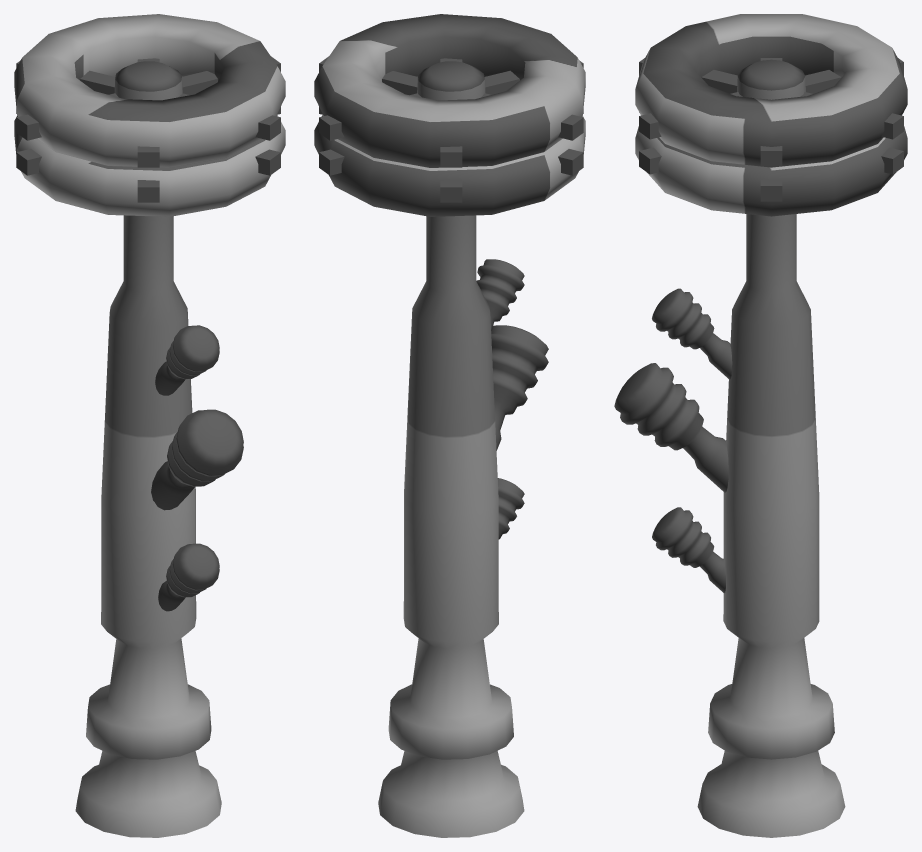
Rendered from SM_tesla_low.fbx.
The picture shows the model from 3 angles, left to right: view 1: azimuth 30°, elevation 25°; view 2: azimuth 150°, elevation 25°; view 3: azimuth 270°, elevation 25°; orthographic projection.
Visible parts, largest first — view 1: SM_tesla_low; view 2: SM_tesla_low; view 3: SM_tesla_low.
Boxes of the visible parts, x1,y1,x2,y2 form: SM_tesla_low: [14, 14, 285, 837]; SM_tesla_low: [314, 14, 585, 837]; SM_tesla_low: [614, 14, 907, 837].
Size of the model in its own units: 0.7221 by 2.02 by 0.7224.
1 material, 1 textured.
